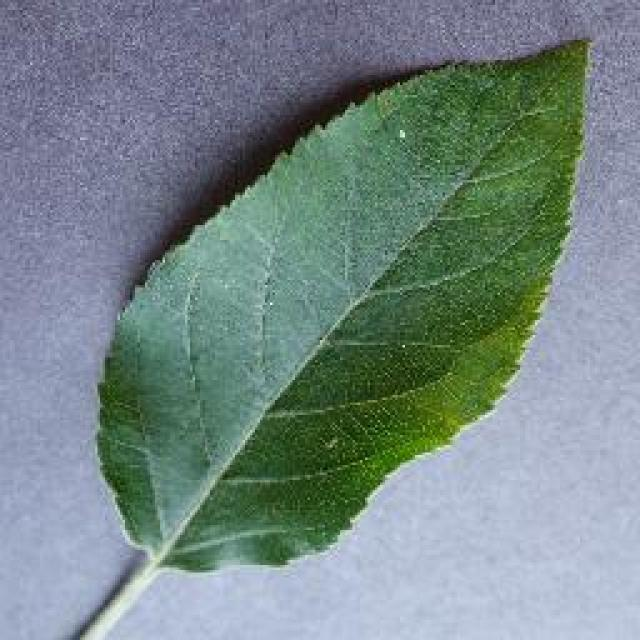apple healthy: (90, 33, 595, 575)
